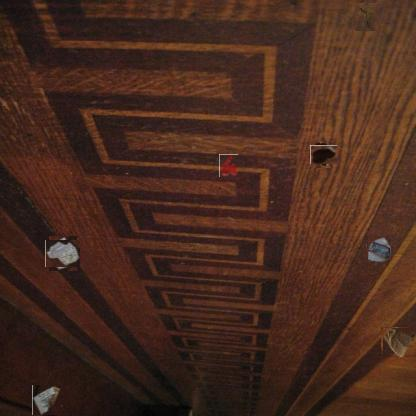dirty: (382, 327, 416, 357), (47, 238, 79, 269), (32, 386, 62, 415), (355, 3, 377, 31), (366, 237, 390, 262)
liquid: (312, 143, 335, 166), (219, 154, 238, 177)
